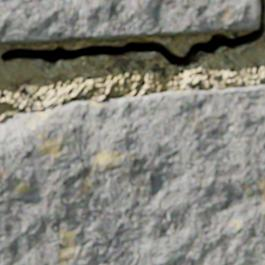brick: (0, 85, 264, 264), (0, 0, 259, 44)
crack: (1, 0, 263, 68)
